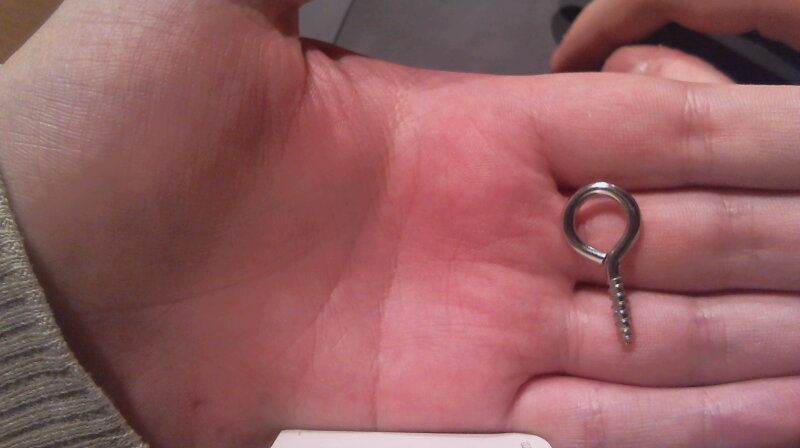O001: (556, 176, 651, 351)
